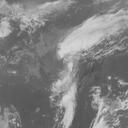cyclone: (55, 33, 80, 106)
